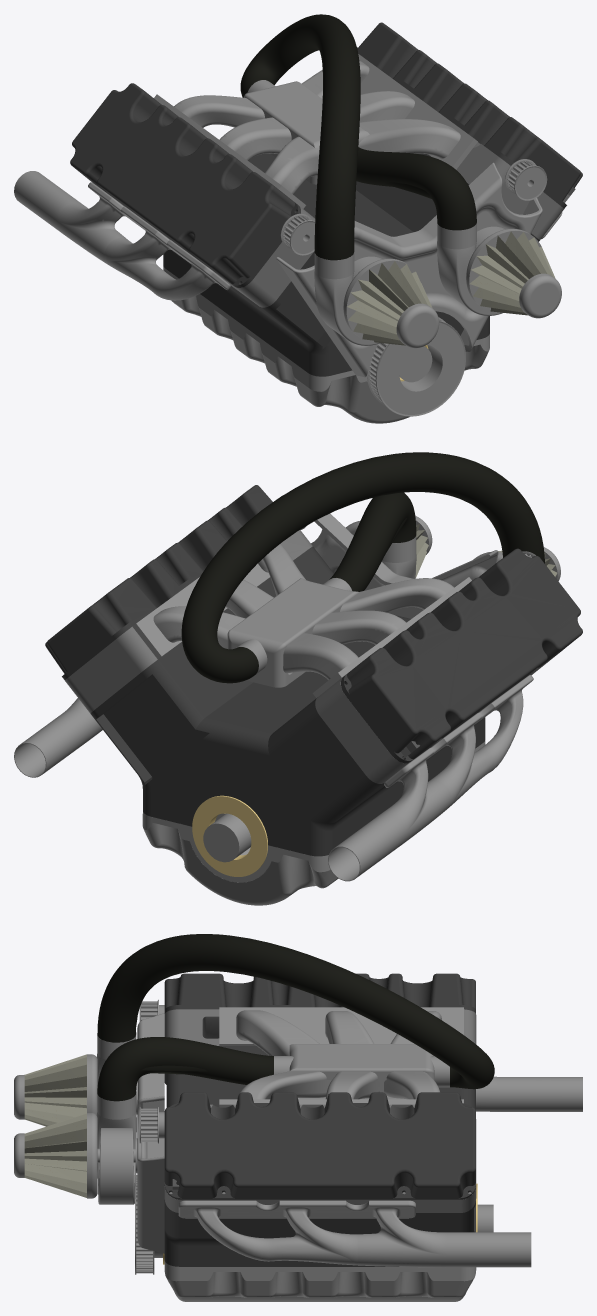
Rendered from service-engine.glb.
3 views of the same model, one above another, from view 1: azimuth 30°, elevation 25°; view 2: azimuth 150°, elevation 25°; view 3: azimuth 270°, elevation 25° (orthographic). The views are drawn at different scales.
Parts seen in each view (by area): view 1: Car 2-Turbo V6 Engine Asembly Designing_244,244,244_0, Car 2-Turbo V6 Engine Asembly Designing_Base_0; view 2: Car 2-Turbo V6 Engine Asembly Designing_244,244,244_0, Car 2-Turbo V6 Engine Asembly Designing_Base_0; view 3: Car 2-Turbo V6 Engine Asembly Designing_244,244,244_0, Car 2-Turbo V6 Engine Asembly Designing_Base_0.
Boxes of the visible parts, x1,y1,x2,y2 form: Car 2-Turbo V6 Engine Asembly Designing_244,244,244_0: (14,14,575,423); Car 2-Turbo V6 Engine Asembly Designing_Base_0: (70,22,582,376); Car 2-Turbo V6 Engine Asembly Designing_244,244,244_0: (14,452,560,905); Car 2-Turbo V6 Engine Asembly Designing_Base_0: (45,485,582,856); Car 2-Turbo V6 Engine Asembly Designing_244,244,244_0: (14,934,582,1301); Car 2-Turbo V6 Engine Asembly Designing_Base_0: (164,973,475,1266).
Bounding box in the file's own units: 0.687 × 0.6189 × 0.928.
2 materials, 2 textured.
